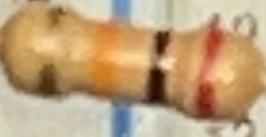Black: (144, 29, 174, 104)
Orange: (85, 20, 128, 98)
Red: (194, 28, 231, 122)
Side-Gold: (33, 5, 72, 95)
